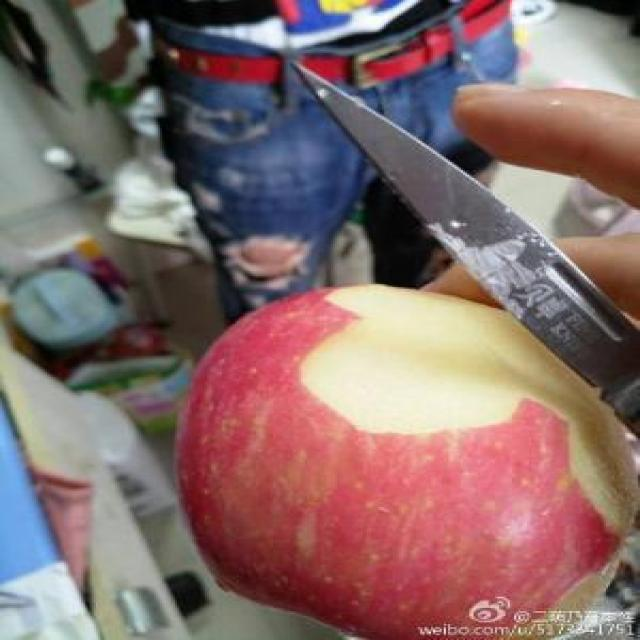Rotten: (244, 301, 619, 617)
